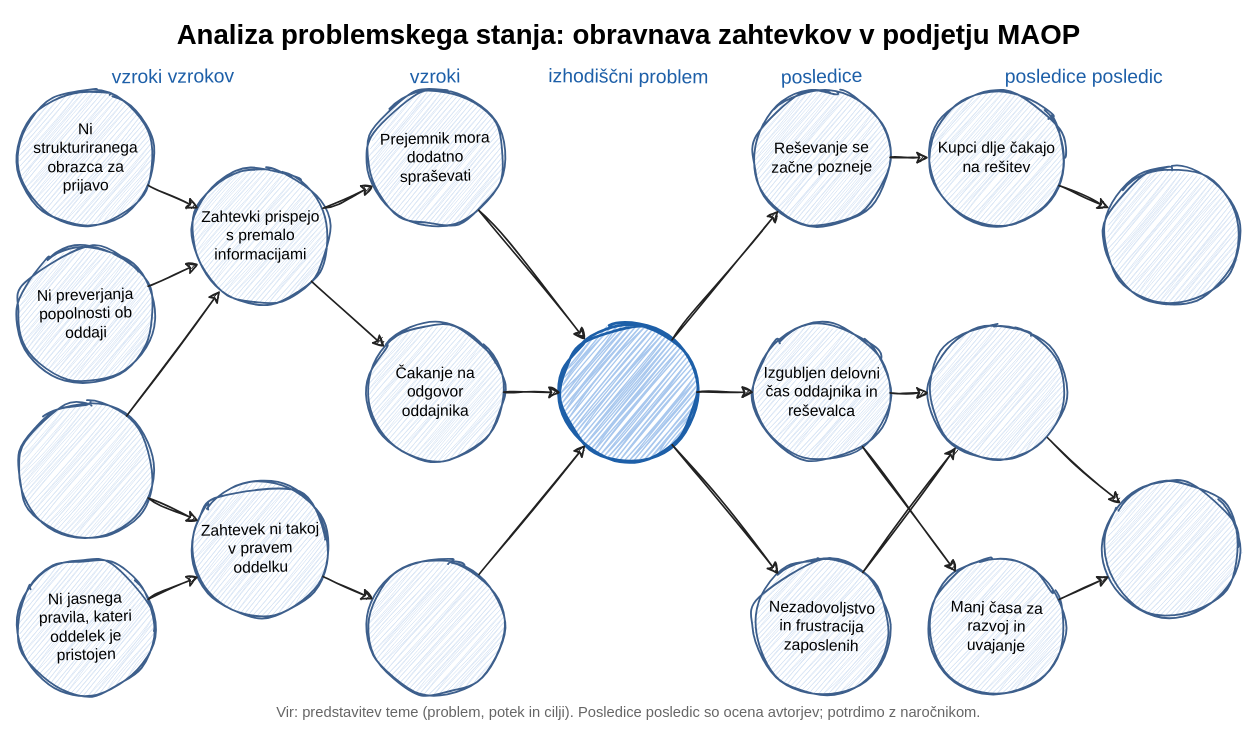
Some shapes in this 1259 by 740 pixel diagram are drawn without their labels. The shapes that lost their labels are listed below. From the top down, each one's box as (x1, y1, x2, y2) in pixels, then its label:
(1101, 165, 1242, 306): Slabše zadovoljstvo kupcev
(558, 321, 699, 463): Predolg čas obravnave zahtevkov
(927, 323, 1066, 461): Višji stroški podpore
(17, 401, 155, 539): Oddajnik ne ve, katere podatke oddelek potrebuje
(1101, 478, 1242, 619): Slabša konkurenčnost podjetja
(365, 556, 505, 697): Prestavljanje med IT in inženiringom
